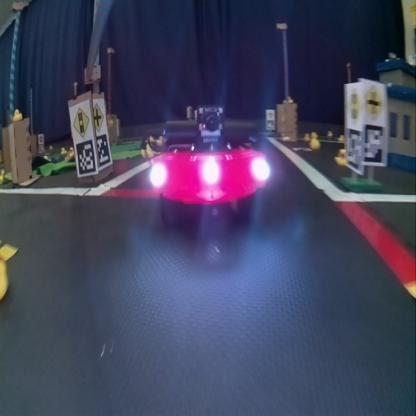Duckie: (336, 148, 344, 165), (14, 111, 20, 120), (312, 140, 318, 148)
Duckiebot: (152, 108, 267, 206)
Intersection sign: (364, 82, 384, 122), (93, 101, 105, 131)
QR code: (364, 127, 384, 164), (346, 128, 362, 170), (75, 140, 93, 172), (96, 135, 111, 166)
Signal sign: (346, 86, 362, 126), (72, 105, 89, 135)
